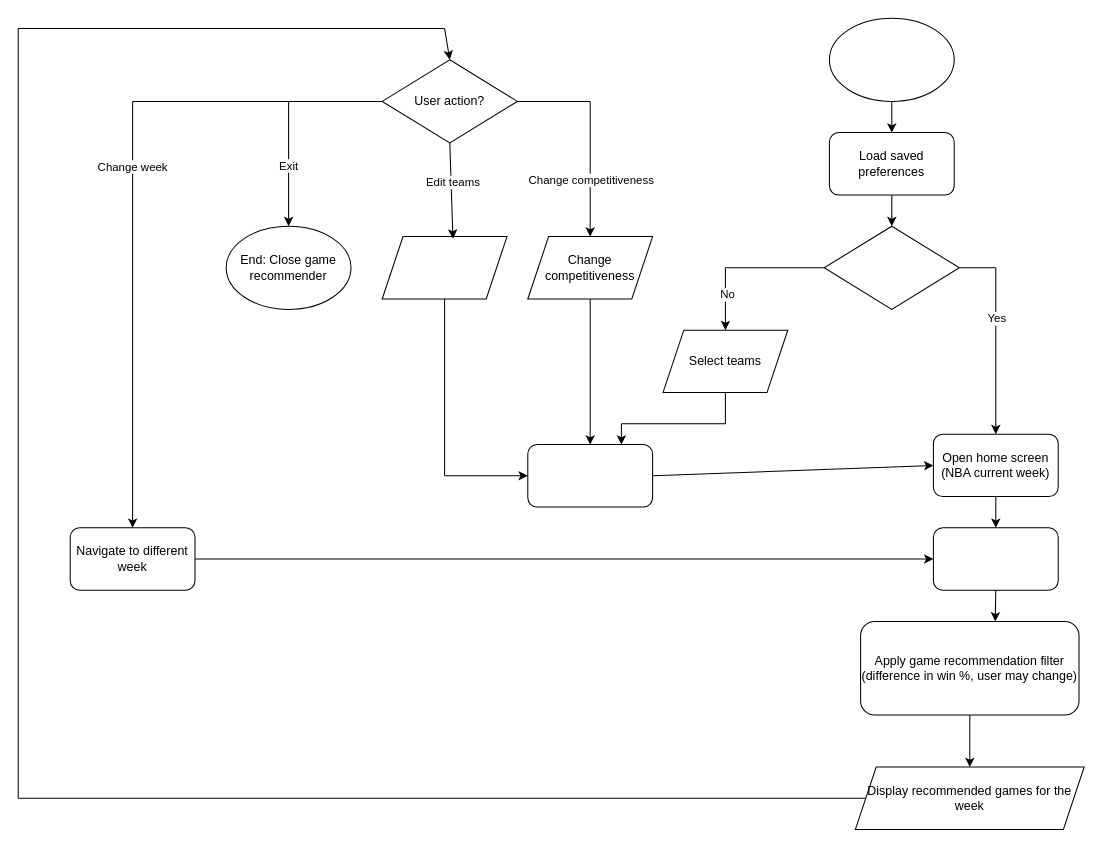
This 1102x848 diagram has some shape labels left out. The centre of each missing label's shape, as x and y in pixels:
Edit favorite teams: pixel 444 267
Fav team selected?: pixel 891 267
Get schedule and team records from API: pixel 995 558
Save preferences: pixel 590 475
Start: Open game recommender: pixel 891 59
